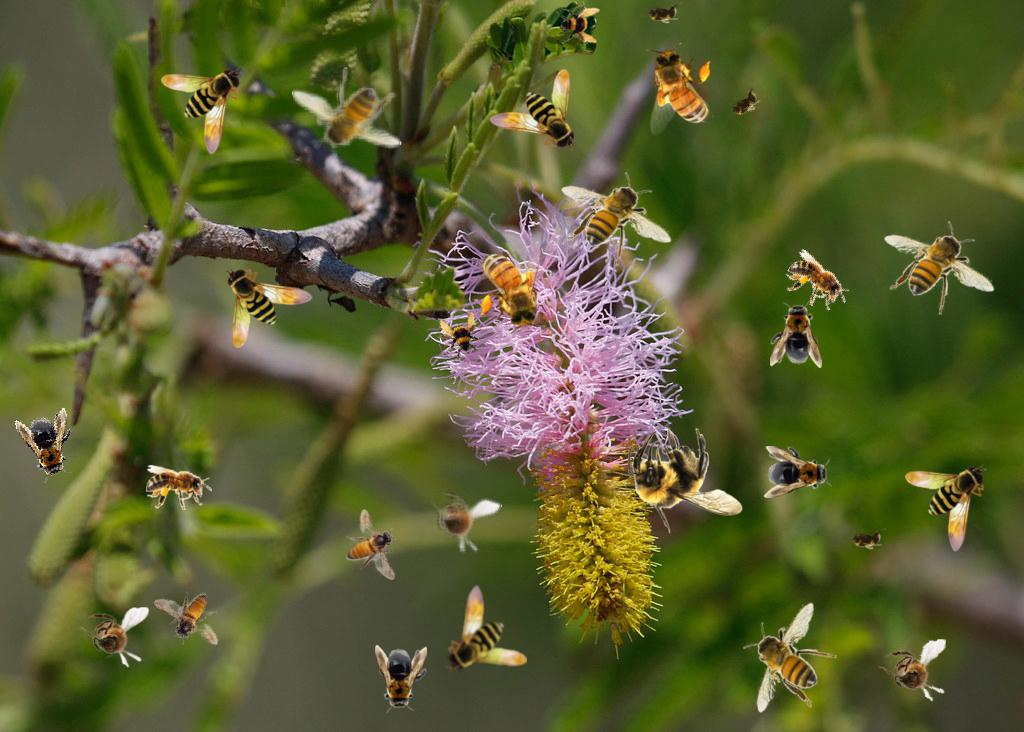Bee: (628, 427, 743, 534), (884, 221, 995, 315), (561, 172, 672, 266), (743, 602, 837, 713), (291, 67, 402, 161), (489, 69, 577, 151), (445, 585, 527, 673), (161, 67, 243, 155), (905, 464, 987, 552), (225, 266, 313, 348), (151, 575, 233, 662), (416, 480, 503, 562), (646, 43, 714, 136), (477, 241, 545, 334), (778, 247, 858, 320), (14, 405, 84, 487), (876, 638, 953, 708), (79, 607, 149, 668), (346, 509, 396, 580), (770, 300, 822, 368), (764, 446, 832, 498), (375, 645, 427, 713), (432, 308, 488, 364), (146, 465, 212, 510), (556, 1, 600, 45), (721, 83, 767, 125), (642, 2, 682, 24), (846, 528, 886, 550)
